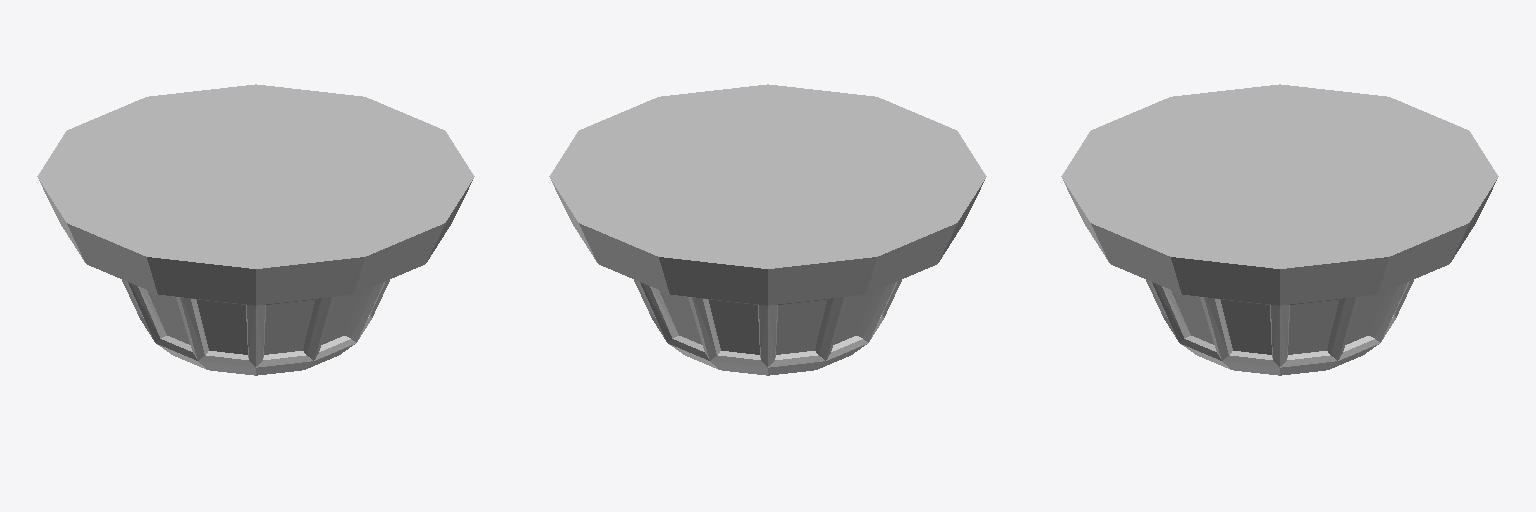
Rendered from Detector_de_Fumaca.obj.
3 views of the same model, side by side, from view 1: azimuth 30°, elevation 25°; view 2: azimuth 150°, elevation 25°; view 3: azimuth 270°, elevation 25° (orthographic).
Visible parts, largest first — view 1: Detector_de_Fumaca; view 2: Detector_de_Fumaca; view 3: Detector_de_Fumaca.
Boxes of the visible parts, box(x1,y1,x2,y2) form: Detector_de_Fumaca: box(37, 84, 474, 375); Detector_de_Fumaca: box(549, 84, 986, 375); Detector_de_Fumaca: box(1061, 84, 1498, 375).
Bounding box in the file's own units: 0.4817 × 0.1924 × 0.4817.